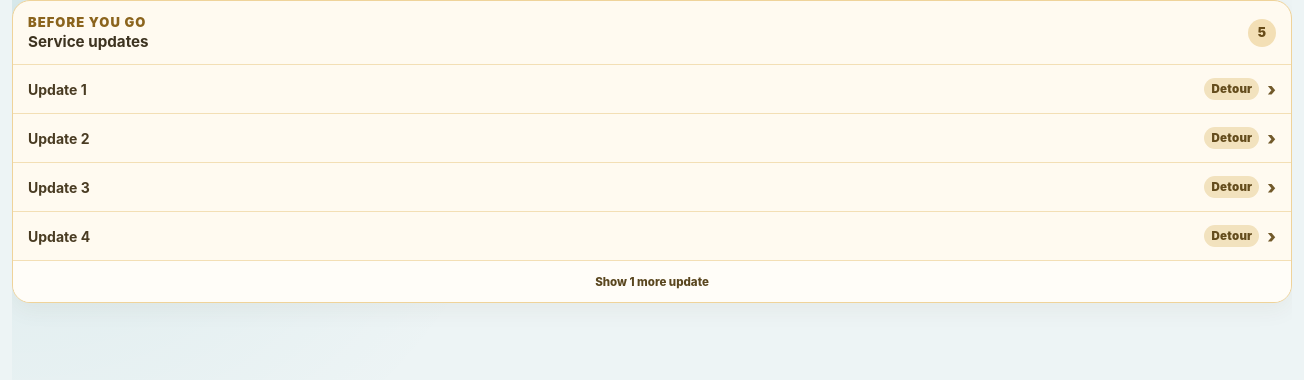
Scenario: the singular overflow action exposes exactly one additional update
Expected: the text "Update 5" is not shown
Click the button "Show 1 more update" at point(652, 281), box [13,260,1291,302]
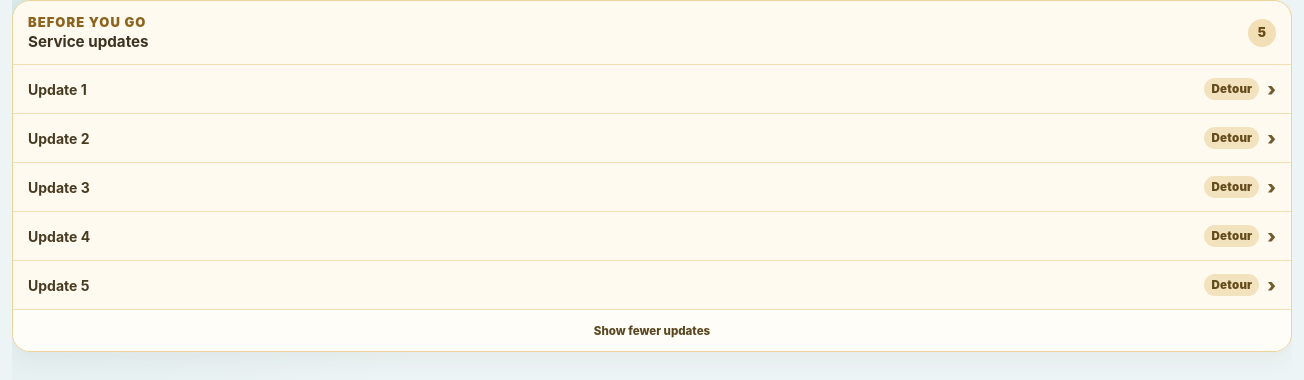
Expected: the text "Update 5" is shown, [28,276,89,294]
